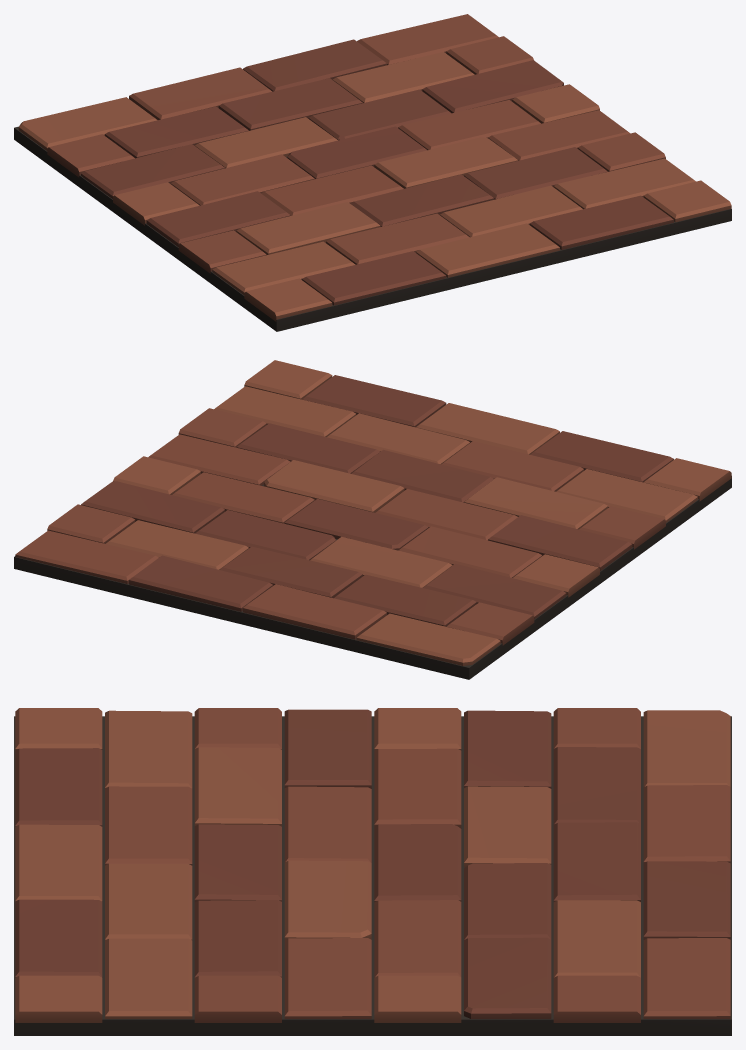
File: floor_bricks_large_B.glb
3 renders of one model, top to bottom at view 1: azimuth 30°, elevation 25°; view 2: azimuth 150°, elevation 25°; view 3: azimuth 270°, elevation 25°, orthographic. The views are drawn at different scales.
Parts seen in each view (by area): view 1: Item; view 2: Item; view 3: Item.
Boxes of the visible parts, bbox=[...] form: Item: bbox=[14, 14, 731, 331]; Item: bbox=[14, 360, 731, 679]; Item: bbox=[14, 708, 731, 1035].
Bounding box in the file's own units: 4 × 0.1625 × 4.
1 material, 1 textured.
